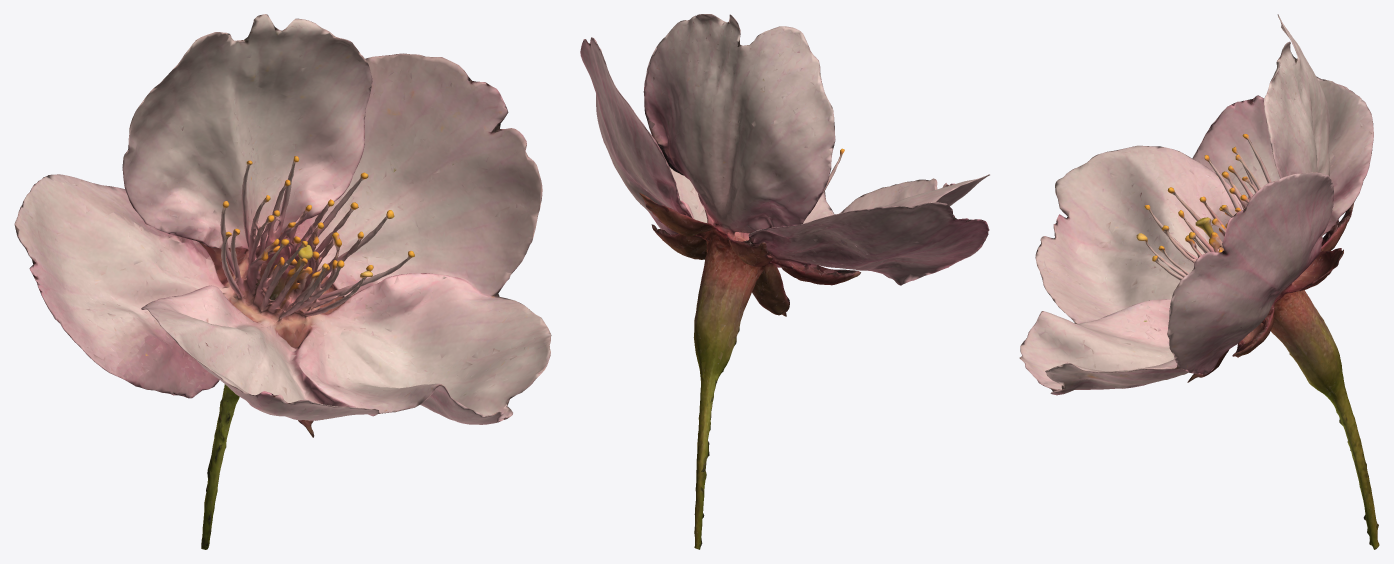
The model's file is kawazu_sakura_holo_ready.glb.
3 renders of one model, left to right at view 1: azimuth 30°, elevation 25°; view 2: azimuth 150°, elevation 25°; view 3: azimuth 270°, elevation 25°, orthographic. The views are drawn at different scales.
Parts seen in each view (by area): view 1: sakuraSpecimenMain; view 2: sakuraSpecimenMain; view 3: sakuraSpecimenMain.
Boxes of the visible parts, x1,y1,x2,y2 form: sakuraSpecimenMain: (14,14,551,549); sakuraSpecimenMain: (580,14,989,549); sakuraSpecimenMain: (1019,14,1379,549).
Size of the model in its own units: 4.71 by 5.45 by 3.48.
Materials: 1 (1 with a texture image).
